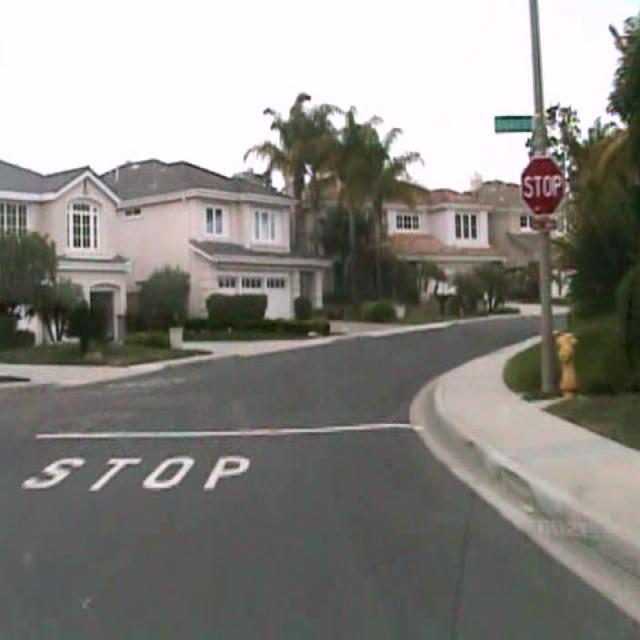stop: (520, 155, 565, 217)
